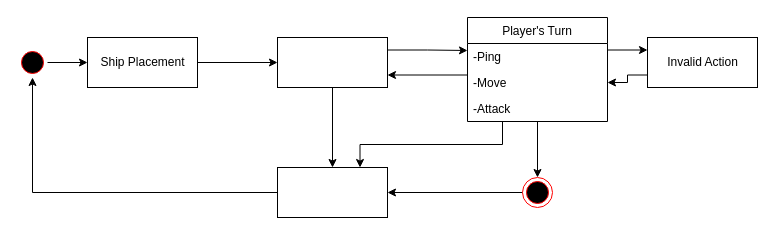
Image size: 775x235. Some labels were removed from this diagram. Here are the shapes that lost their labels. From the top down, the centre of each, then its label:
the point at 332,62: Enemy's Turn
the point at 332,192: Restart
